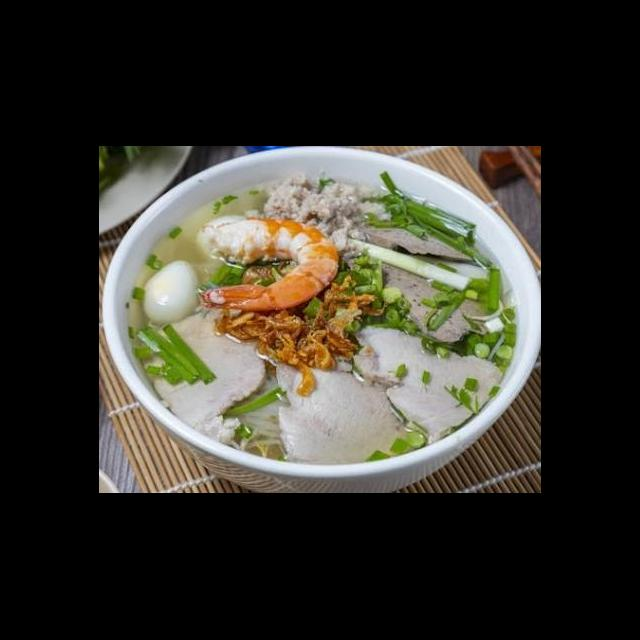gan: (343, 248, 502, 348), (356, 220, 476, 266)
hu tieu: (221, 368, 292, 456)
thit bam: (243, 170, 399, 278)
thit heo: (272, 338, 428, 472), (132, 302, 273, 450), (348, 320, 507, 448)
tom: (190, 214, 341, 314)
trung: (139, 256, 203, 326)
